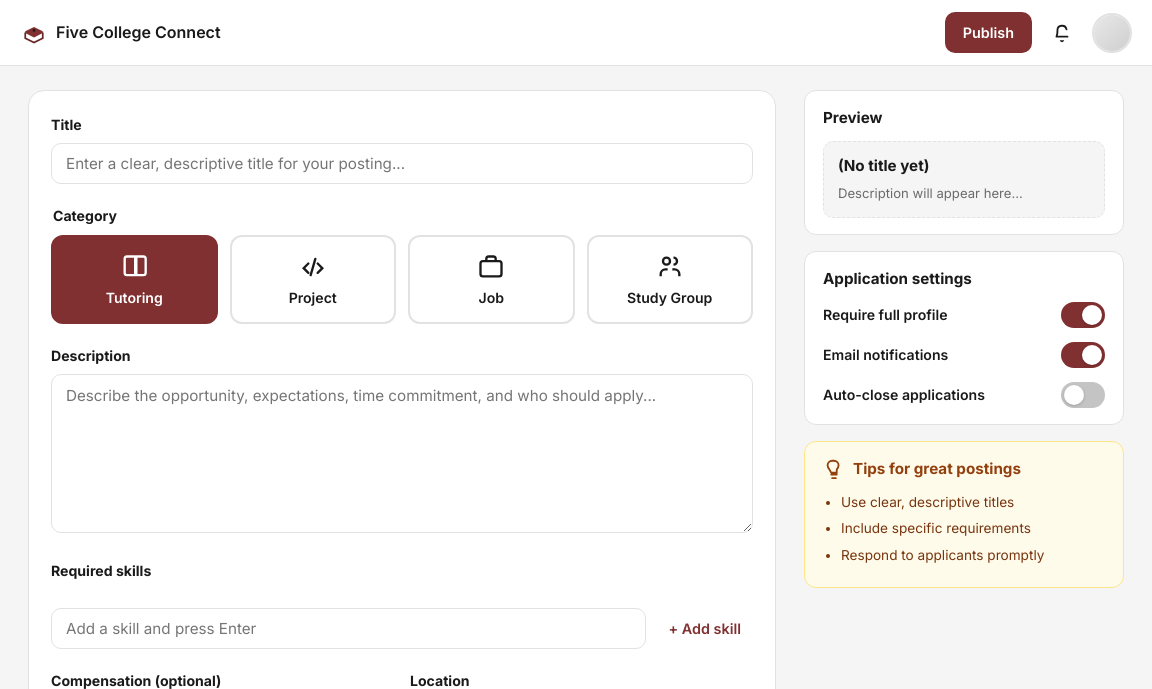
CreatePostingPage › shows a validation error when publishing without a title
Click the button "Publish" at (988, 32), box [945,12,1032,53]
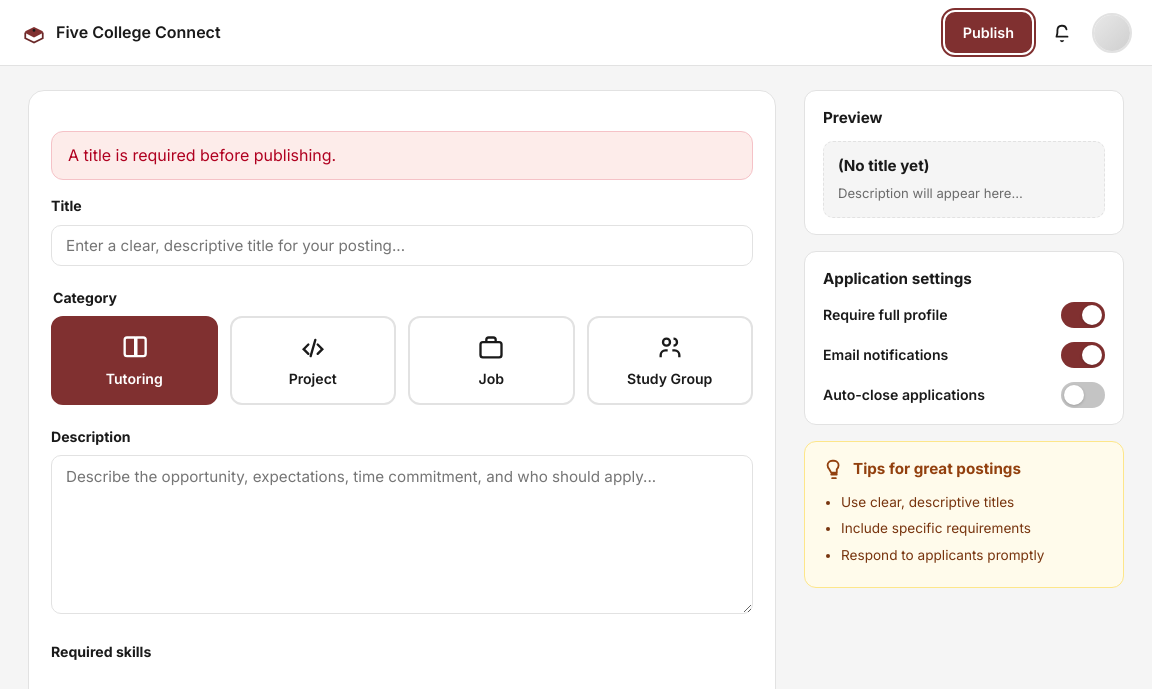
Now the message reads "A title is required before publishing.", box [68,145,336,165]
